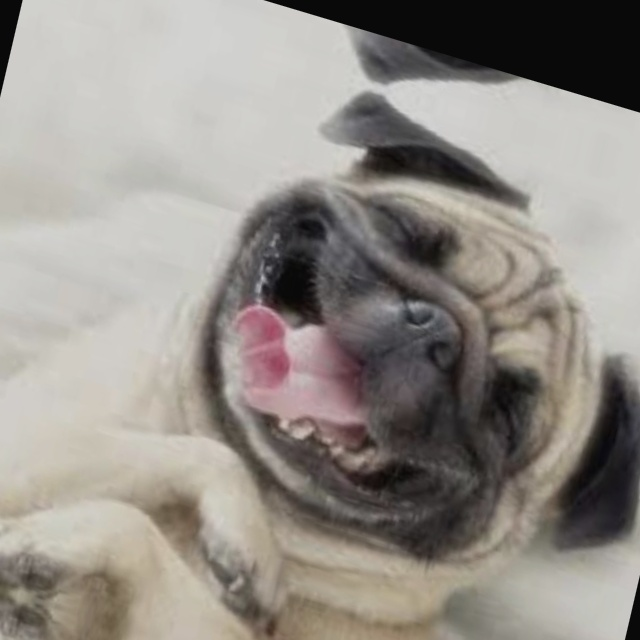dog: (125, 41, 640, 593), (218, 0, 640, 190)
